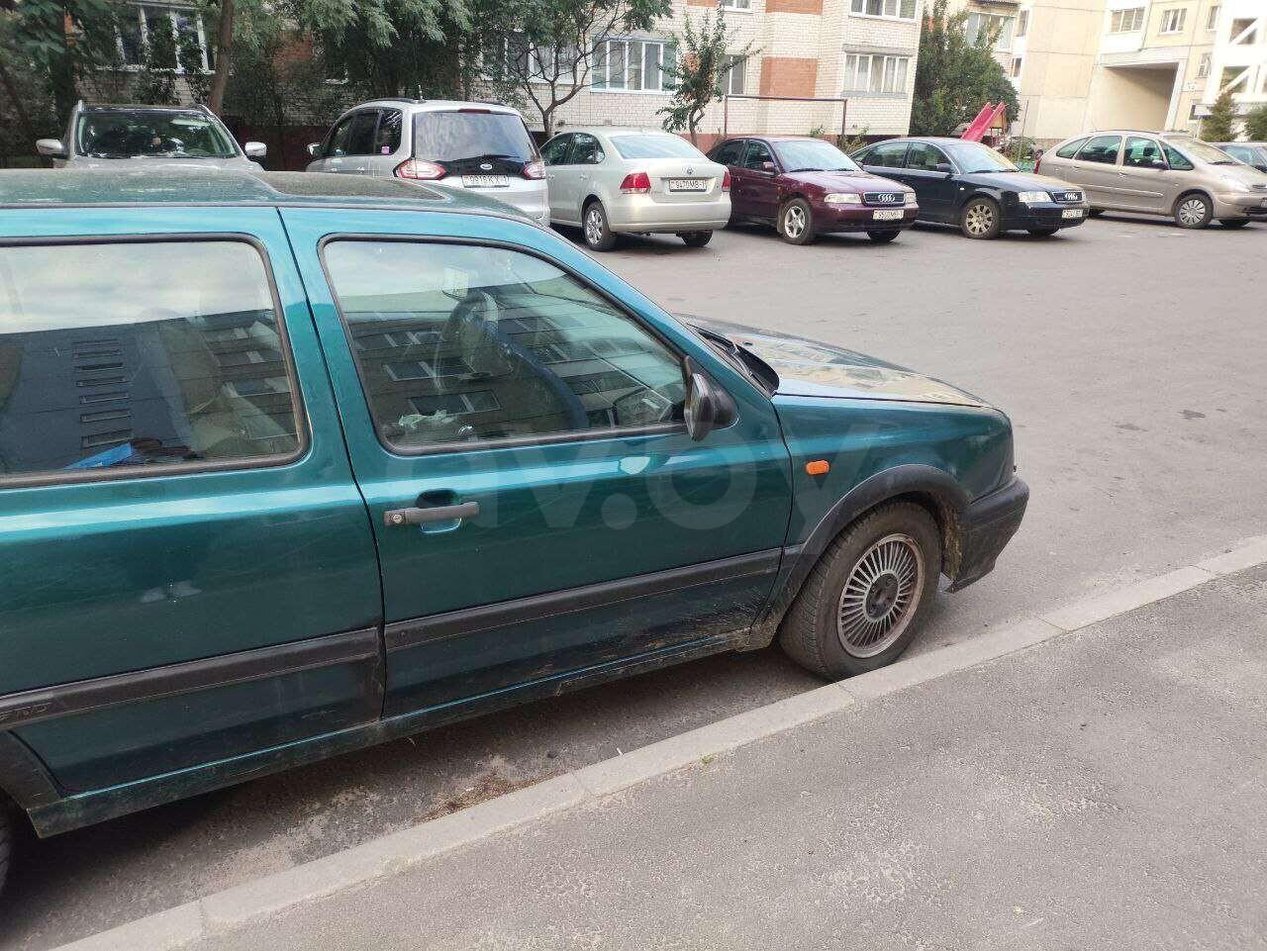Golf_1991-2000: (0, 155, 1027, 951)
